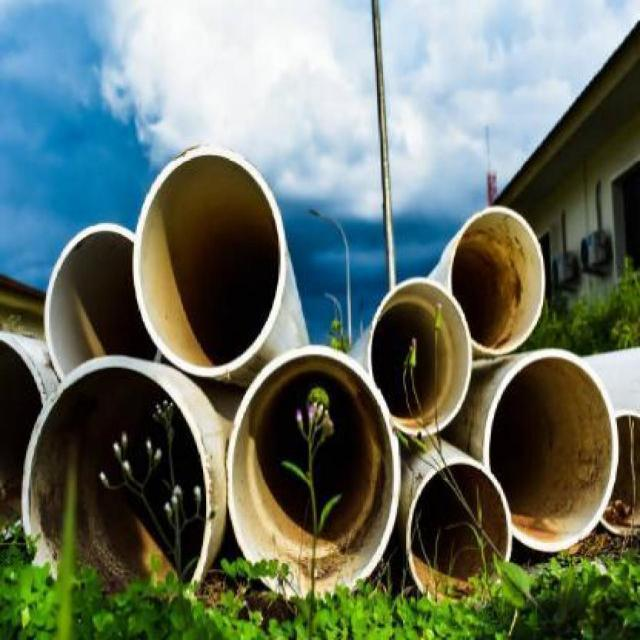pipe: (21, 355, 208, 600), (226, 345, 399, 600), (133, 144, 286, 377), (483, 349, 620, 552), (45, 223, 164, 382), (369, 277, 472, 436), (405, 458, 513, 606), (448, 208, 545, 354), (0, 331, 51, 544)
